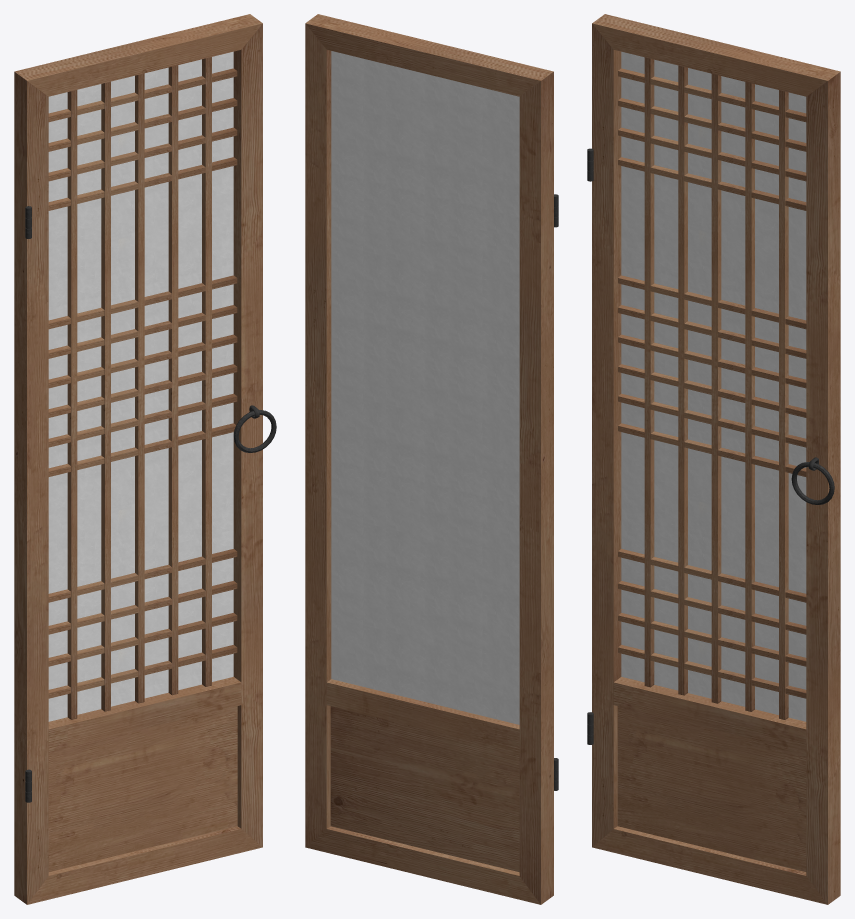
The model's file is SM_Yeonkyung_Sarangchae_Win_G_001.fbx.
The picture shows the model from 3 angles, left to right: view 1: azimuth 30°, elevation 25°; view 2: azimuth 150°, elevation 25°; view 3: azimuth 330°, elevation 25°; orthographic projection.
Visible parts, largest first — view 1: SM_Yeonkyung_Sarangchae_Win_G_001; view 2: SM_Yeonkyung_Sarangchae_Win_G_001; view 3: SM_Yeonkyung_Sarangchae_Win_G_001.
Boxes of the visible parts, x1,y1,x2,y2 form: SM_Yeonkyung_Sarangchae_Win_G_001: [14, 14, 276, 904]; SM_Yeonkyung_Sarangchae_Win_G_001: [305, 14, 558, 904]; SM_Yeonkyung_Sarangchae_Win_G_001: [587, 14, 840, 904].
Size of the model in its own units: 55.97 by 177 by 7.4.
